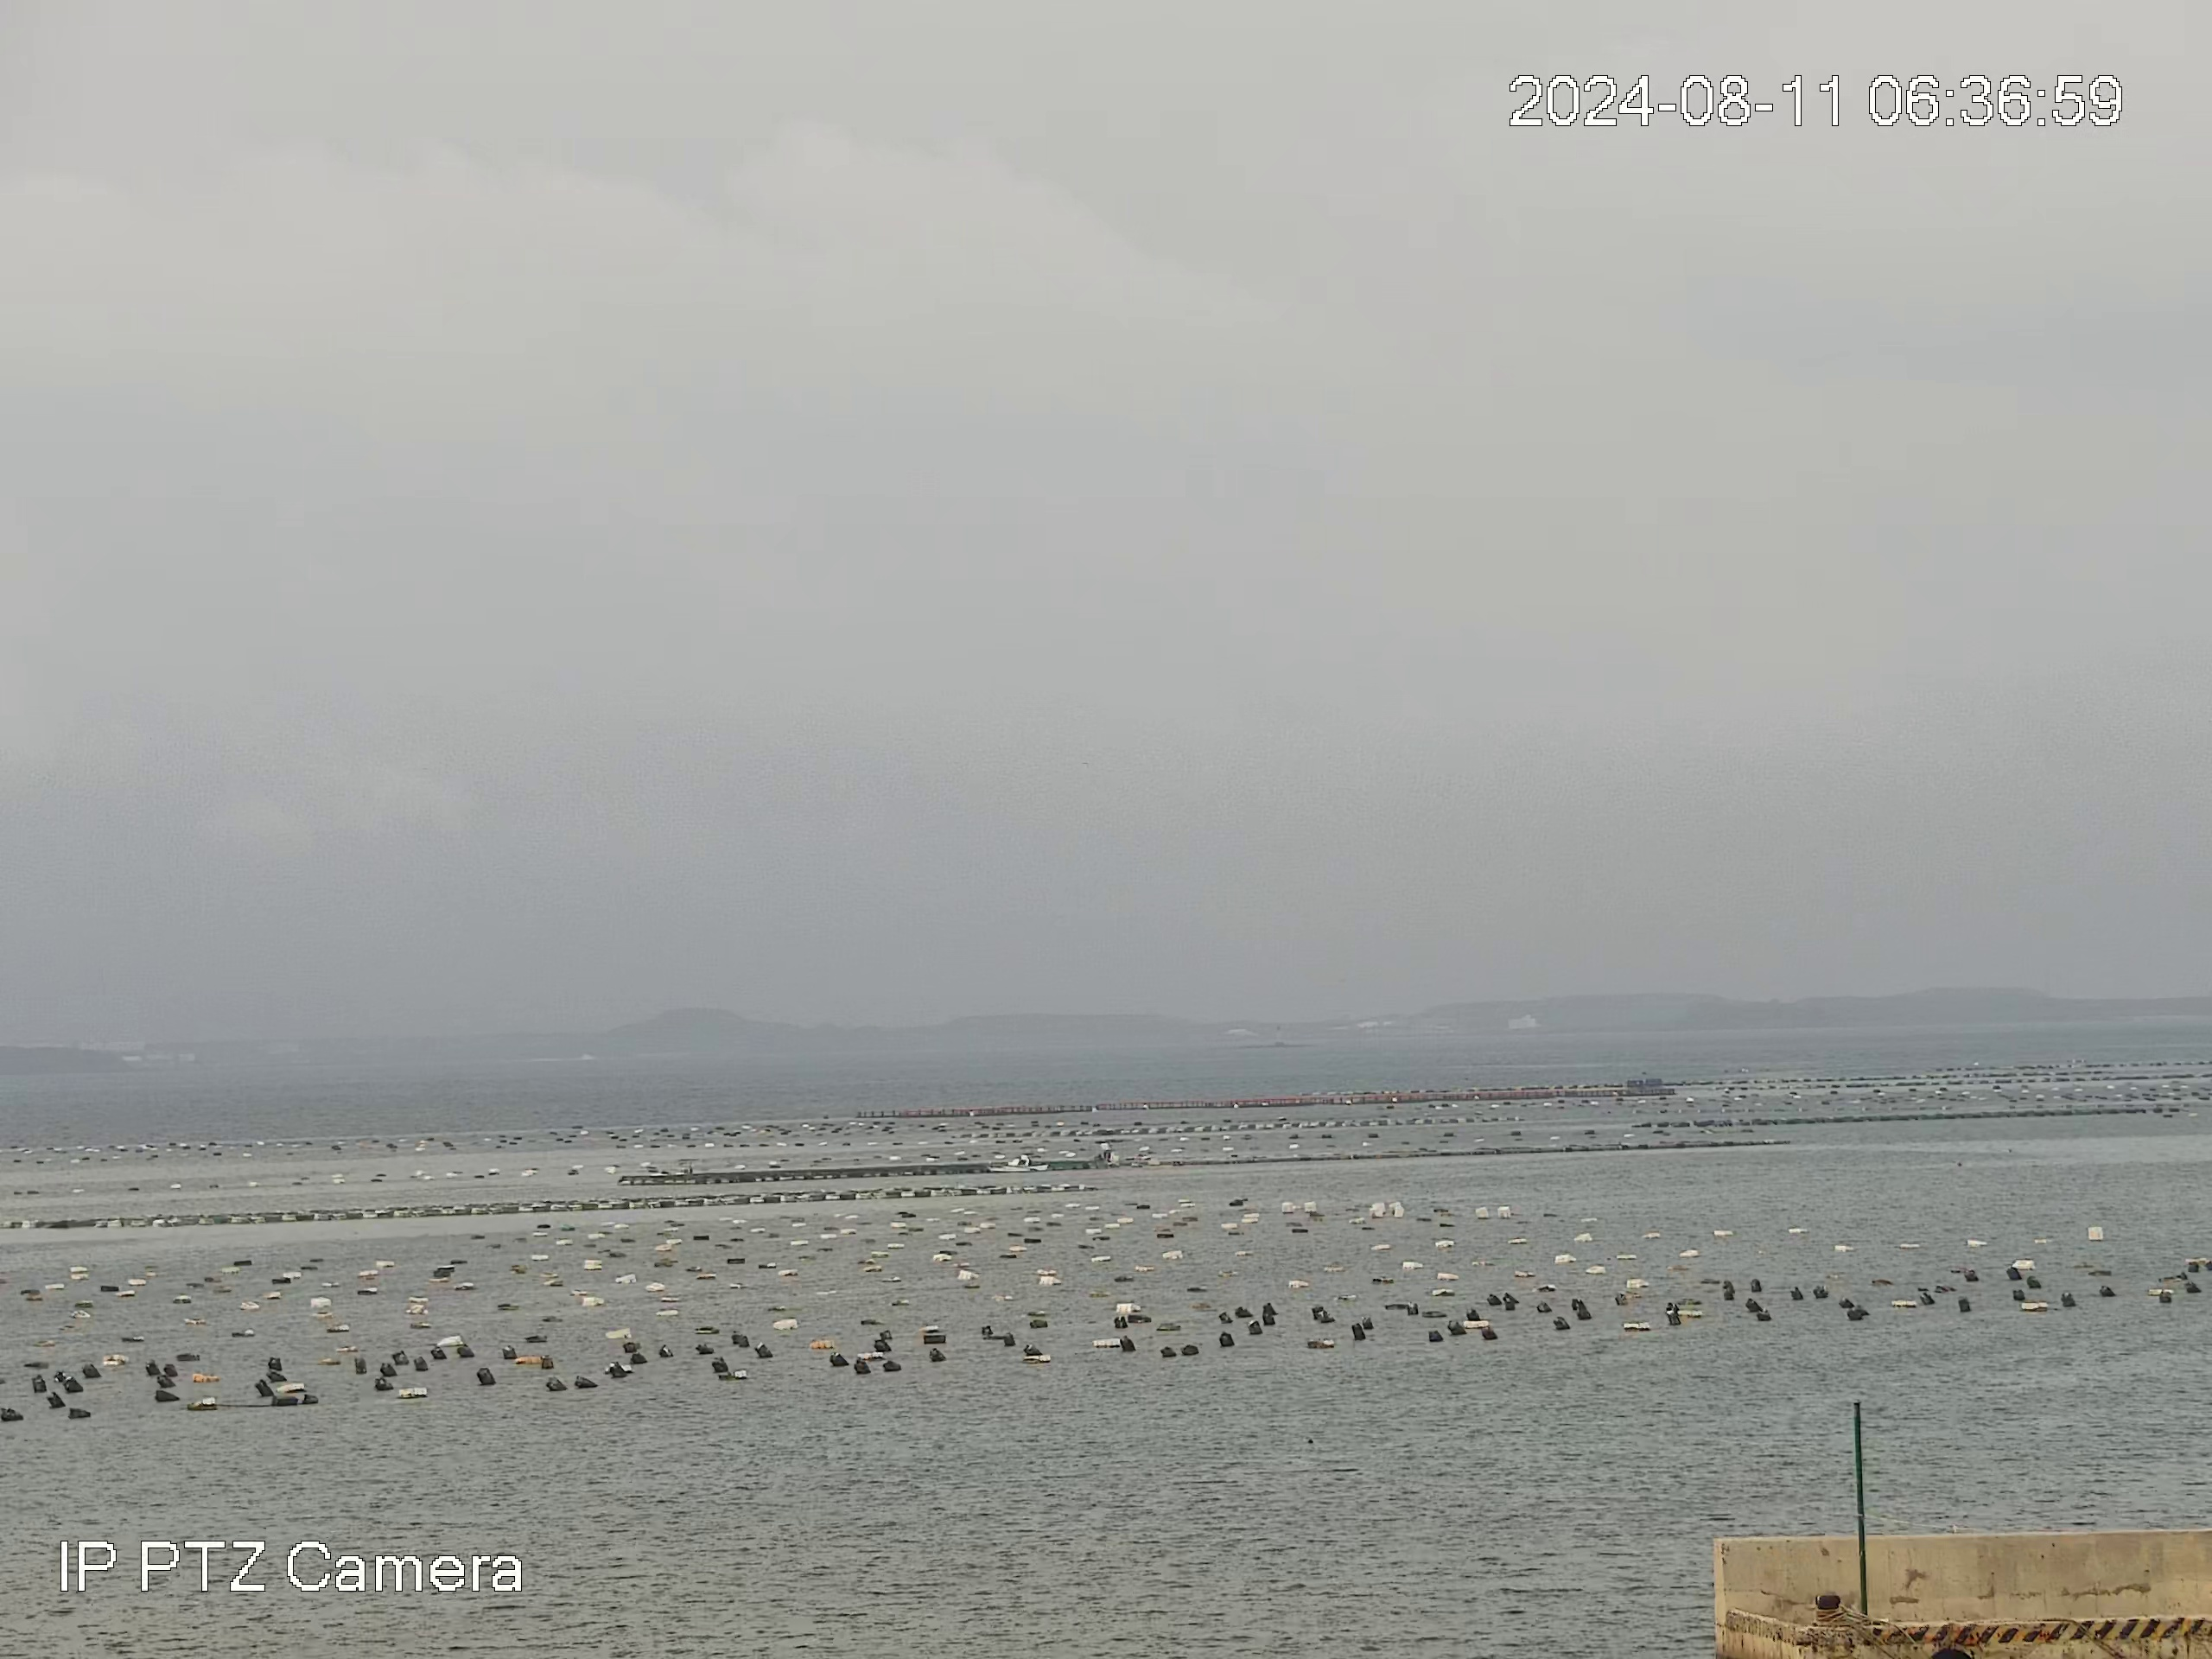boat: (986, 1152, 1050, 1173)
